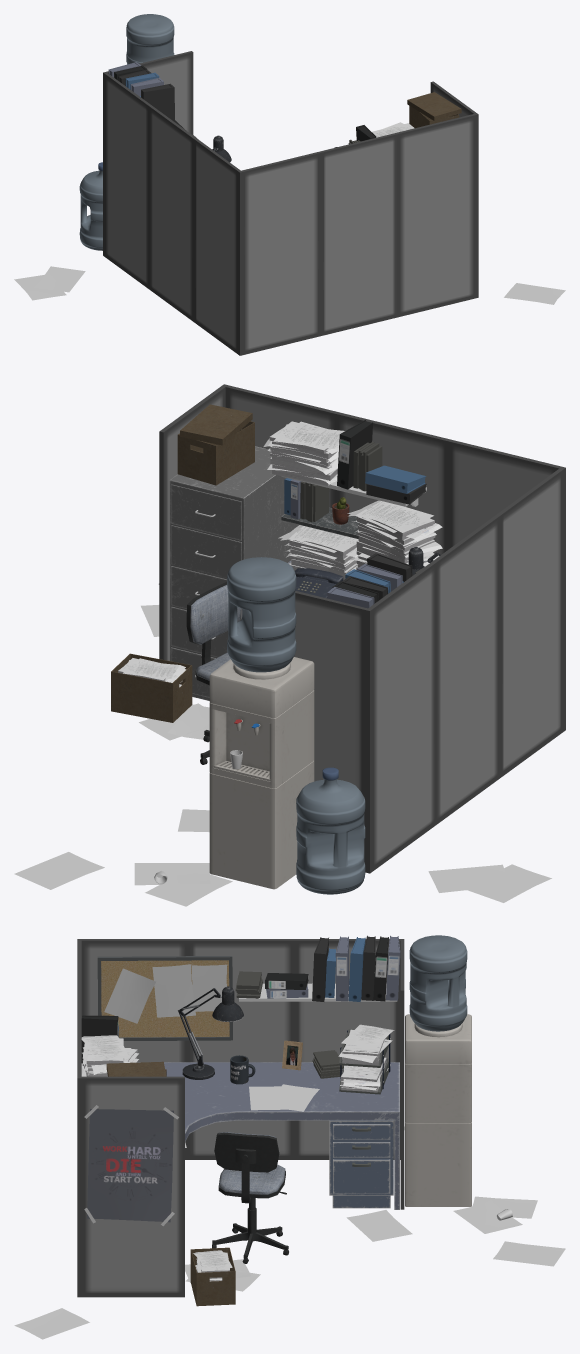
The model's file is PCTable.fbx.
The picture shows the model from 3 angles, top to bottom: view 1: azimuth 30°, elevation 25°; view 2: azimuth 150°, elevation 25°; view 3: azimuth 270°, elevation 25°; orthographic projection. The views are drawn at different scales.
Parts seen in each view (by area): view 1: Walls_Cube.139, BigBottle02_Cylinder.005, BigBottle01_Cylinder.015, Box02Cap_Cube.227, Paper08_Cube.201, Paper13_Cube.206, File06_Cube.145, Paper12_Cube.205, Box02_Cube.226; view 2: Walls_Cube.139, WaterCooler_Cube:246_Cube:249, FileStorage_Cube.143, BigBottle01_Cylinder.015, BigBottle02_Cylinder.005, PaperStack.002_Cube.023, PaperStack.003_Cube.024, Box01_Cube.224, Box02_Cube.226, Stool_Cube.133, PaperStack_Cube.020, Box02Cap_Cube.227 (+16 smaller); view 3: Walls_Cube.139, WaterCooler_Cube:246_Cube:249, Table_Plane.024, BigWallPaper_Cube.223, Drawer_Cube, PinBoard_Cube.016, Stool_Cube.133, BigBottle02_Cylinder.005, PaperStack.004_Cube.026, Paper15_Cube.006, Box01_Cube.224, TableLamp_Cylinder.004 (+26 smaller).
Boxes of the visible parts, bbox=[...] form: Walls_Cube.139: bbox=[103, 51, 478, 355]; BigBottle02_Cylinder.005: bbox=[126, 14, 174, 64]; BigBottle01_Cylinder.015: bbox=[79, 162, 102, 250]; Box02Cap_Cube.227: bbox=[407, 92, 461, 120]; Paper08_Cube.201: bbox=[504, 283, 565, 304]; Paper13_Cube.206: bbox=[34, 266, 85, 292]; File06_Cube.145: bbox=[141, 83, 174, 119]; Paper12_Cube.205: bbox=[14, 274, 66, 300]; Box02_Cube.226: bbox=[409, 106, 459, 128]; Walls_Cube.139: bbox=[159, 384, 565, 873]; WaterCooler_Cube:246_Cube:249: bbox=[209, 657, 314, 889]; FileStorage_Cube.143: bbox=[169, 446, 298, 700]; BigBottle01_Cylinder.015: bbox=[296, 767, 365, 894]; BigBottle02_Cylinder.005: bbox=[227, 557, 296, 672]; PaperStack.002_Cube.023: bbox=[347, 500, 442, 564]; PaperStack.003_Cube.024: bbox=[263, 421, 344, 486]; Box01_Cube.224: bbox=[111, 653, 192, 722]; Box02_Cube.226: bbox=[177, 421, 254, 485]; Stool_Cube.133: bbox=[186, 582, 240, 764]; PaperStack_Cube.020: bbox=[278, 525, 358, 580]; Box02Cap_Cube.227: bbox=[180, 404, 252, 445]; Walls_Cube.139: bbox=[77, 939, 404, 1297]; WaterCooler_Cube:246_Cube:249: bbox=[405, 1014, 471, 1206]; Table_Plane.024: bbox=[136, 1062, 399, 1209]; BigWallPaper_Cube.223: bbox=[84, 1105, 178, 1226]; Drawer_Cube: bbox=[329, 1120, 393, 1208]; PinBoard_Cube.016: bbox=[97, 956, 232, 1040]; Stool_Cube.133: bbox=[212, 1132, 288, 1263]; BigBottle02_Cylinder.005: bbox=[409, 935, 467, 1031]; PaperStack.004_Cube.026: bbox=[338, 1024, 394, 1092]; Paper15_Cube.006: bbox=[152, 964, 195, 1017]; Box01_Cube.224: bbox=[190, 1247, 235, 1306]; TableLamp_Cylinder.004: bbox=[178, 986, 243, 1079].
Bounding box in the file's own units: 1765 × 852 × 1719.
30 materials, 23 textured.
